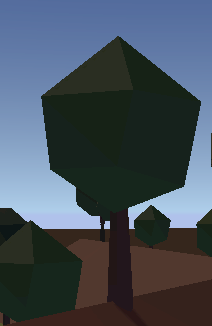tree: (40, 32, 197, 308), (1, 206, 86, 325), (134, 205, 180, 249), (196, 209, 212, 259)
